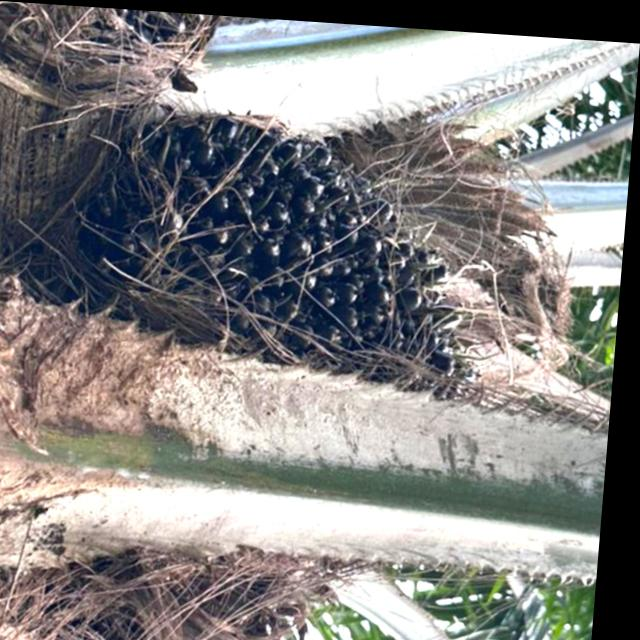unripe: (43, 88, 503, 399)
